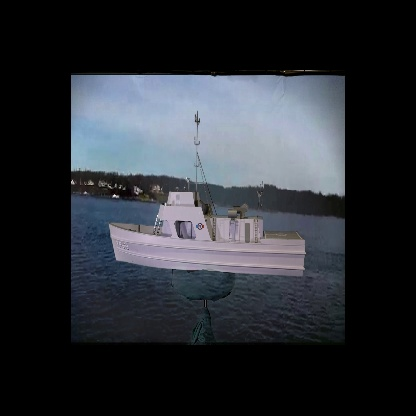YP689: (108, 112, 306, 280)
